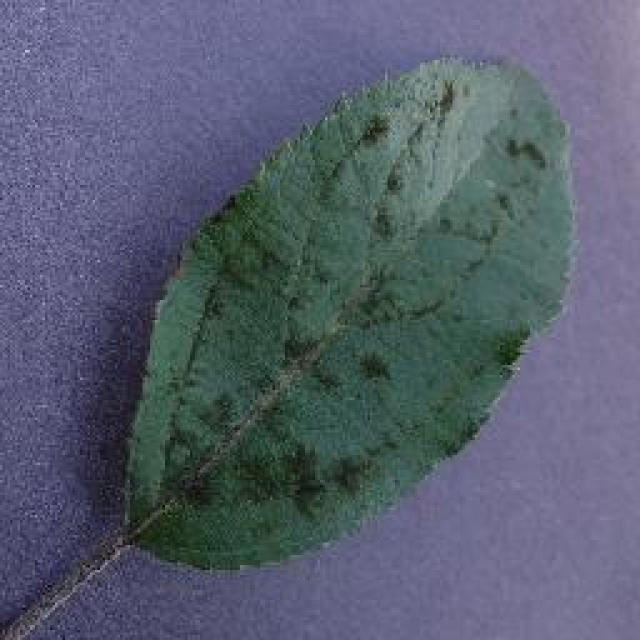apple scab disease: (118, 50, 580, 572)
